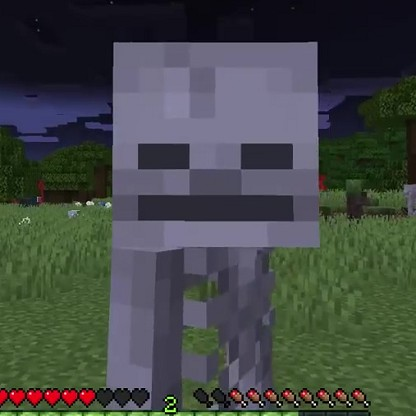skeleton: (102, 38, 326, 383)
